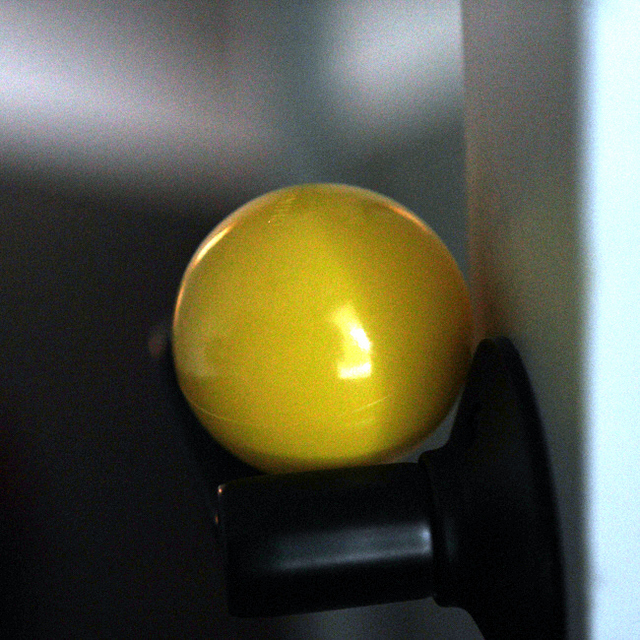Ball: (170, 178, 478, 469)
